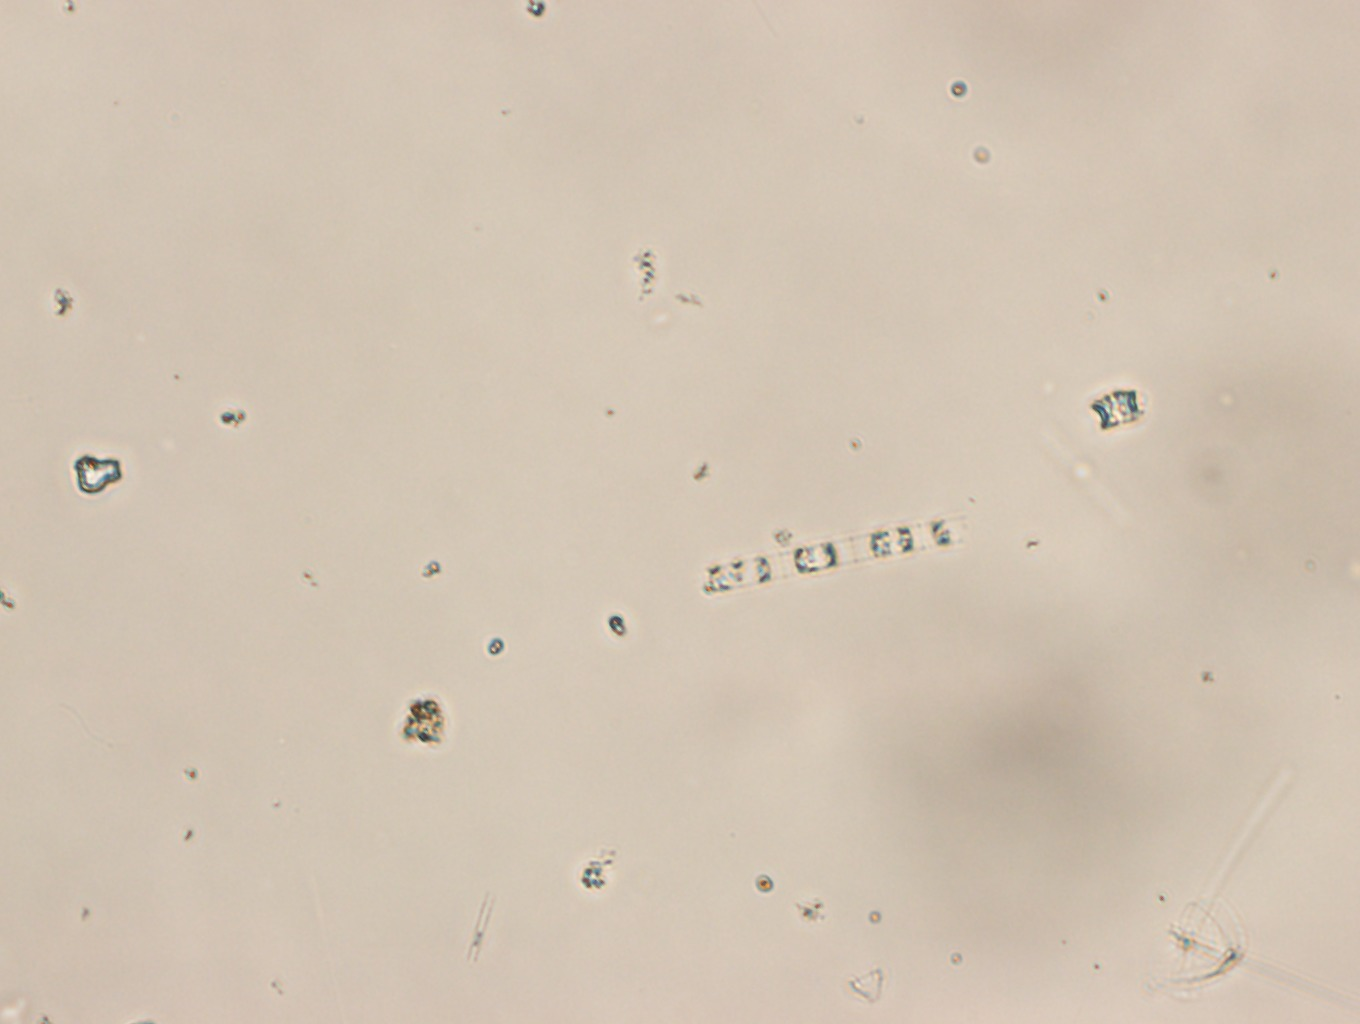skeletonema: (701, 513, 977, 601)
